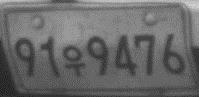1: (38, 34, 61, 78)
4: (112, 34, 138, 78)
6: (161, 32, 186, 77)
7: (132, 32, 157, 77)
9: (85, 35, 110, 76), (13, 37, 36, 79)
우: (61, 44, 86, 78)
